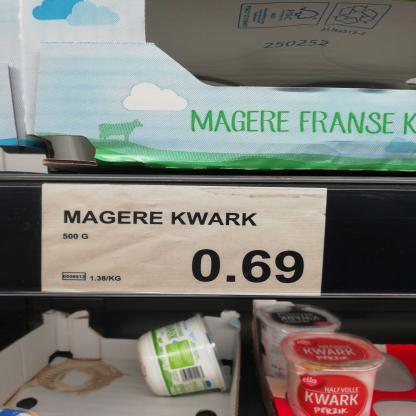prtg: (43, 185, 328, 297)
